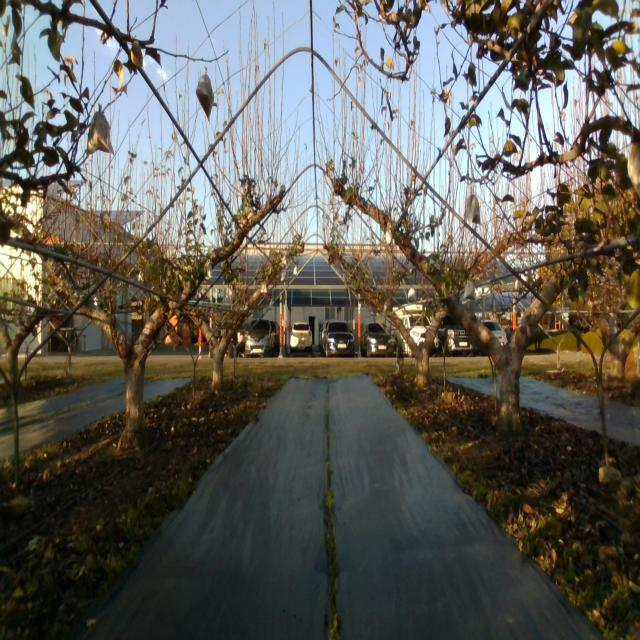pearbags: (86, 110, 114, 156), (196, 73, 214, 122), (627, 142, 640, 200), (466, 194, 480, 224), (464, 281, 475, 300)
